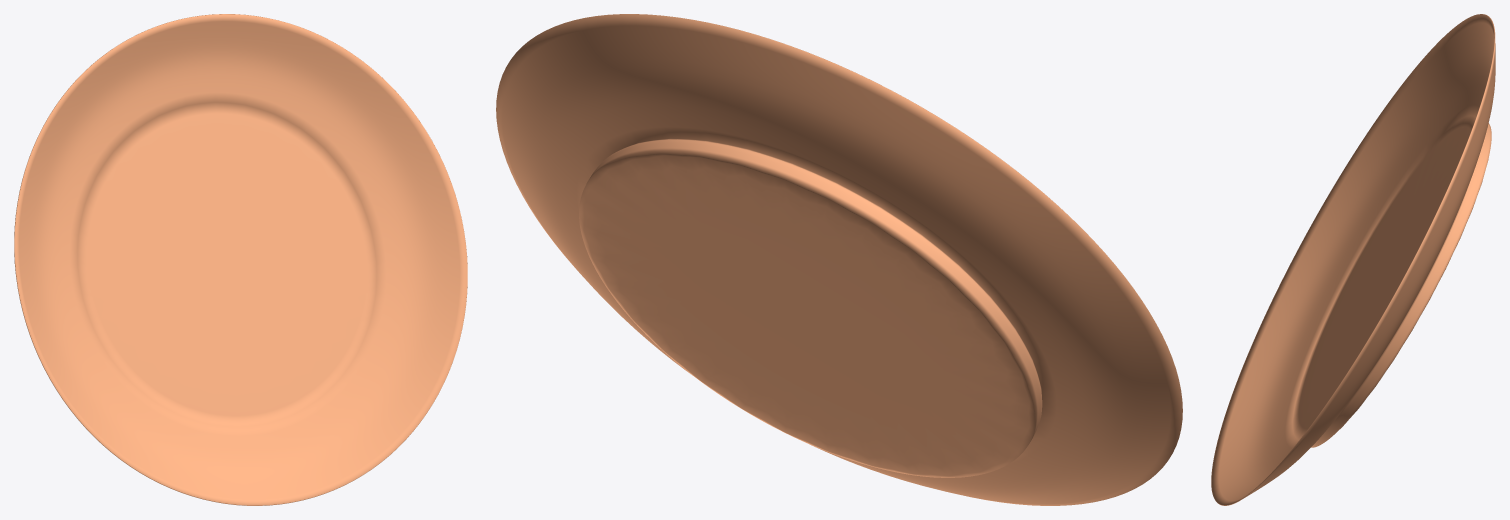
Rendered from Piatto.fbx.
3 renders of one model, left to right at view 1: azimuth 30°, elevation 25°; view 2: azimuth 150°, elevation 25°; view 3: azimuth 270°, elevation 25°, orthographic. The views are drawn at different scales.
Parts seen in each view (by area): view 1: Plate; view 2: Plate; view 3: Plate.
Boxes of the visible parts, x1,y1,x2,y2 form: Plate: (14,14,467,505); Plate: (496,14,1182,505); Plate: (1211,14,1495,505).
Size of the model in its own units: 945 by 814 by 482.
